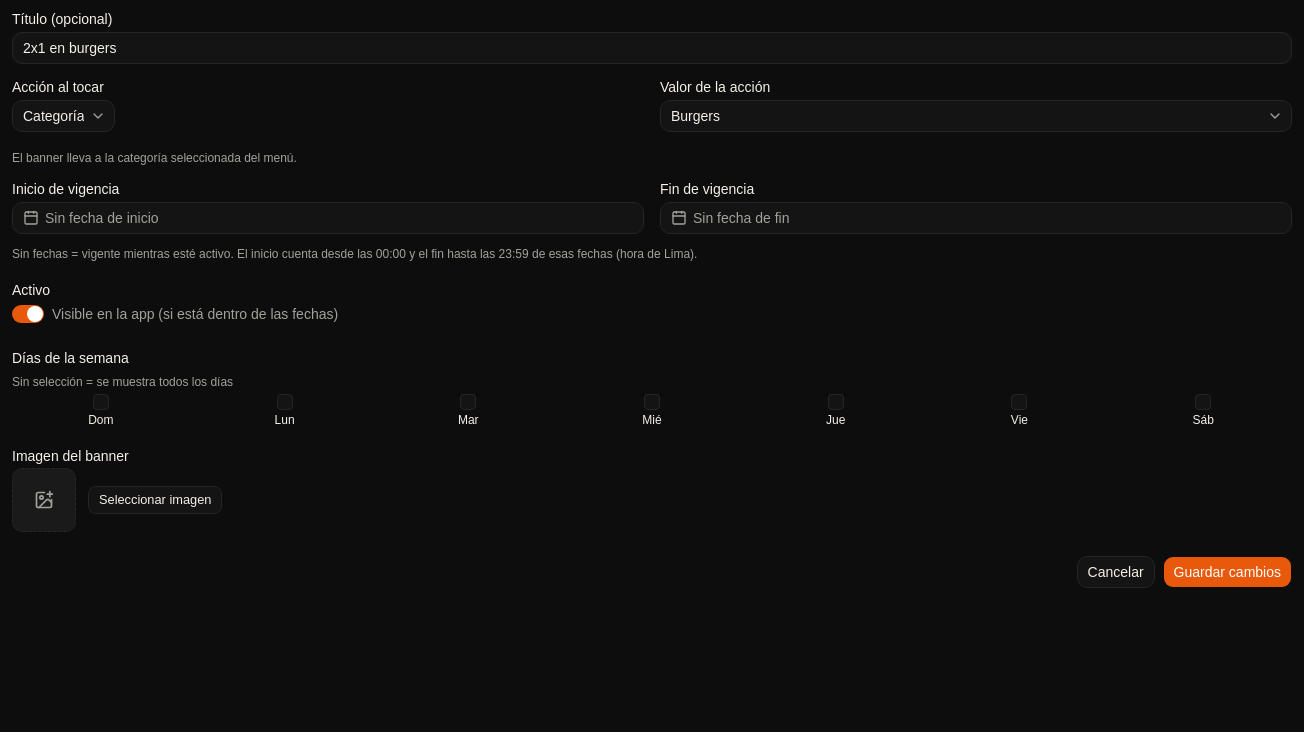
BannerForm actionValue › limpia el actionValue viejo al cambiar de tipo de acción
Click the dropdown named "Acción al tocar": (64, 116) 12,100 -> 116,132
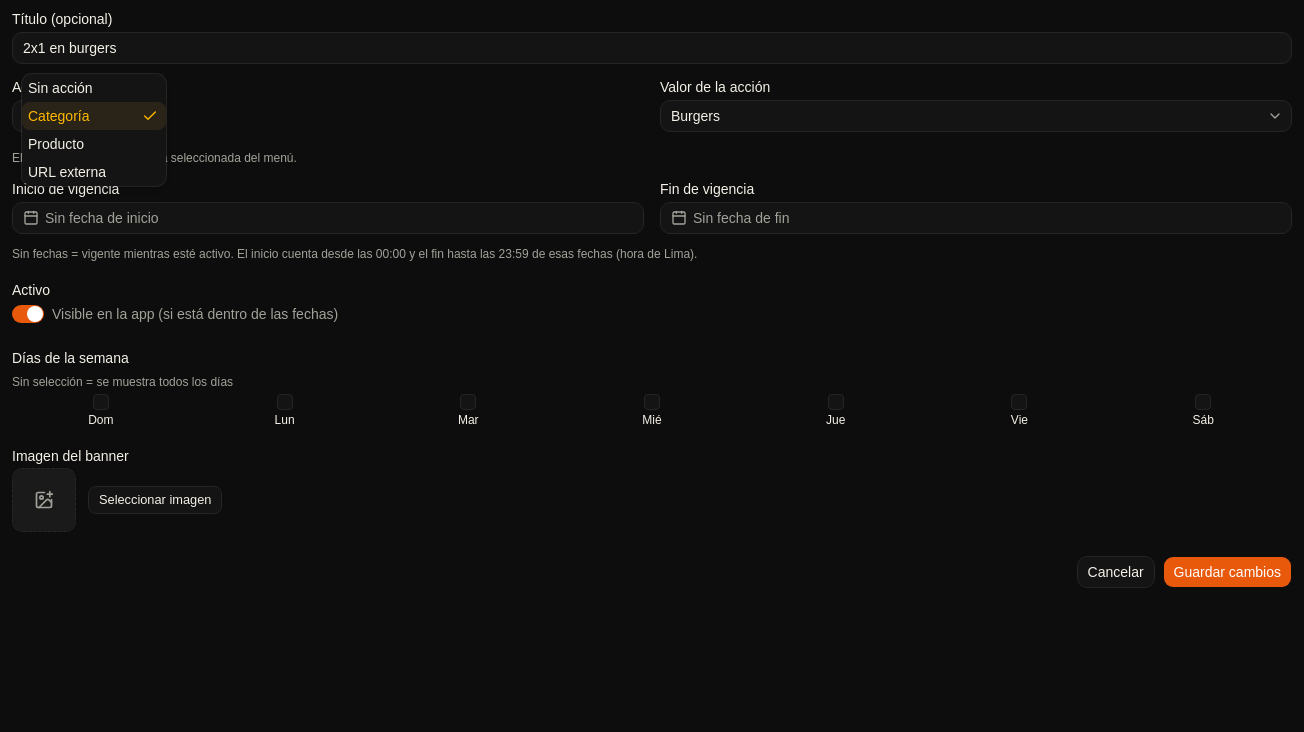
Click the option "Producto": (56, 144) 28,136 -> 84,152
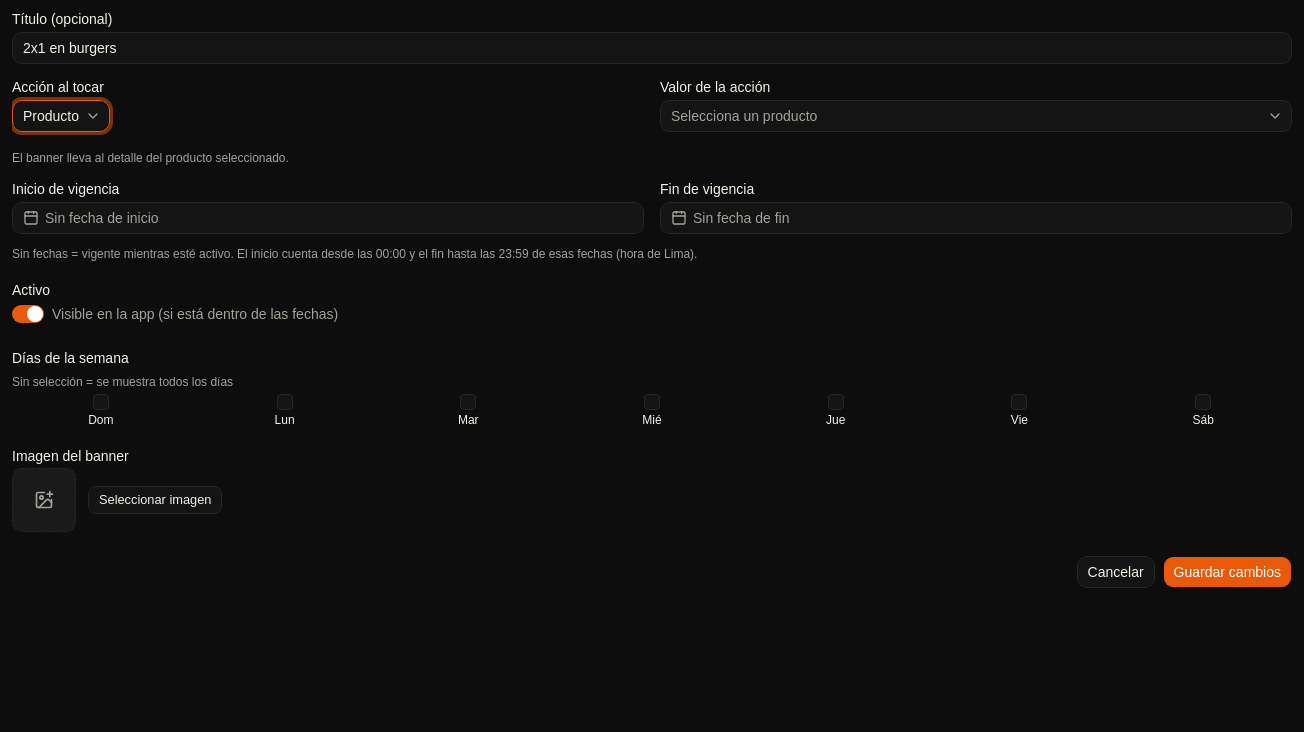
Click the button "Guardar cambios": (1227, 572) 1163,556 -> 1292,588
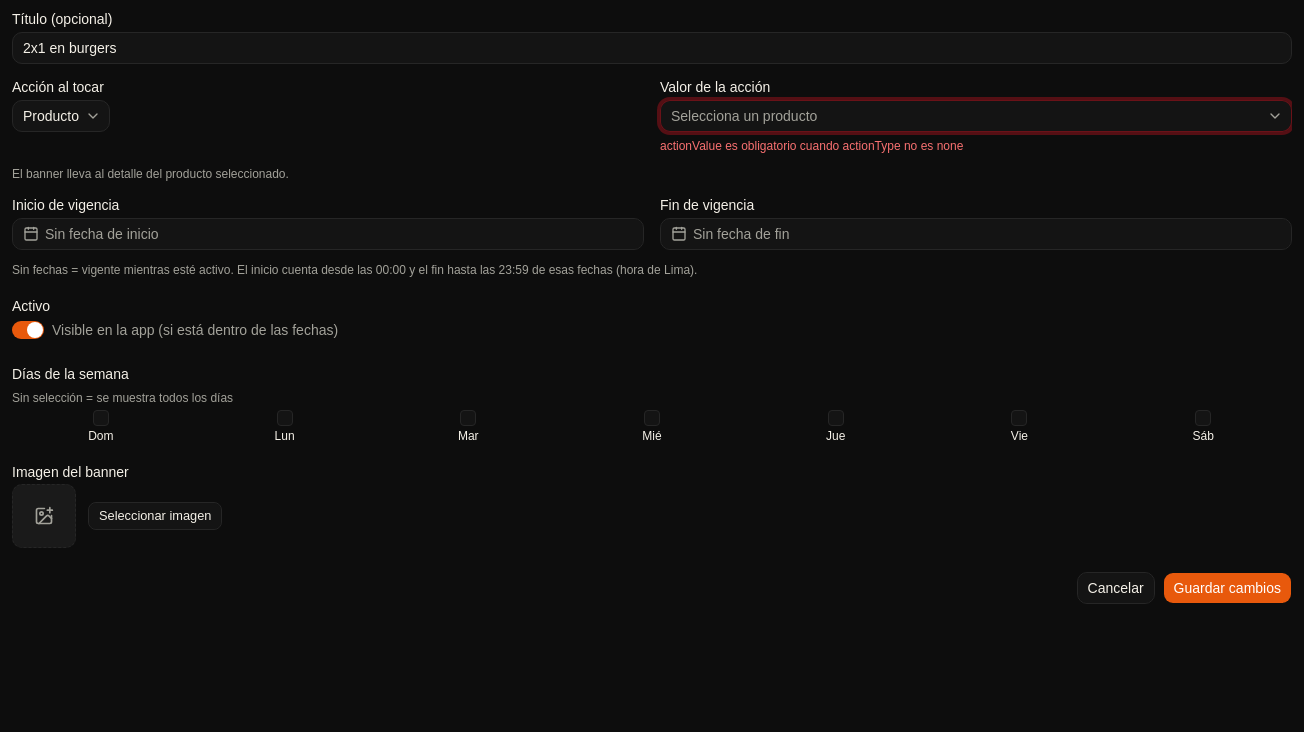
Expected: the text "actionValue es obligatorio cuando actionType no es none" is shown, 660,139 -> 963,153
